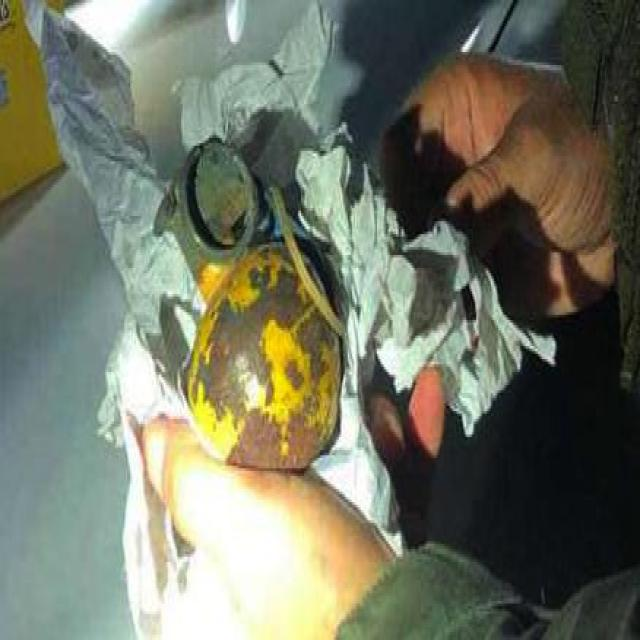grenade: (155, 131, 344, 473)
